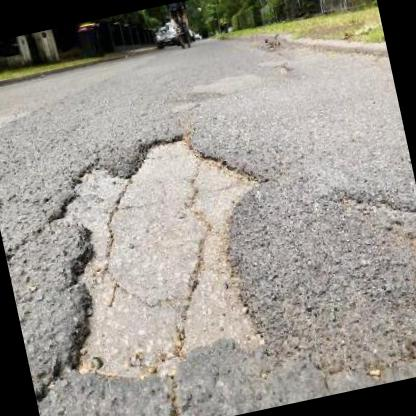pothole: (20, 112, 300, 394)
